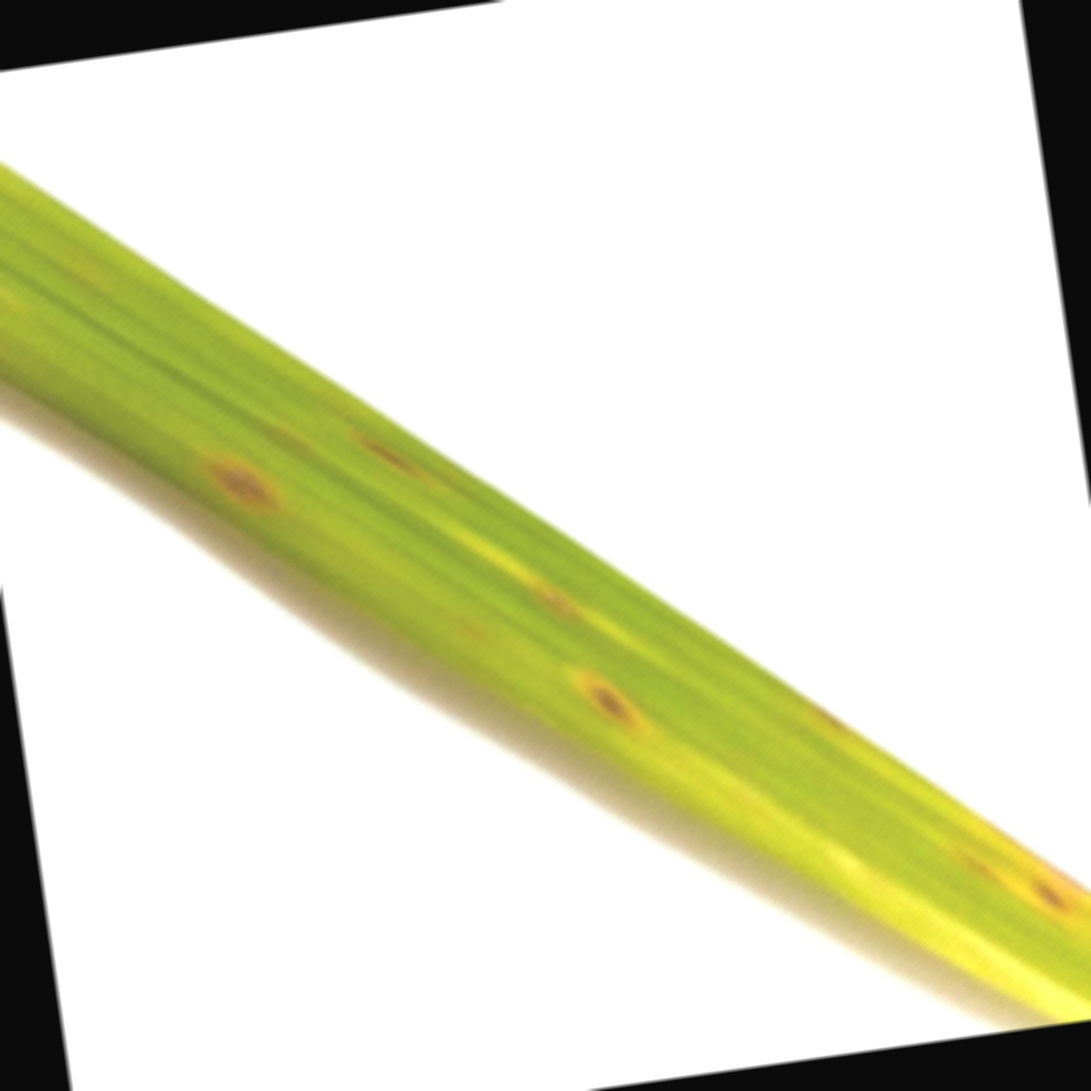Brown_Spot: (567, 643, 650, 746), (202, 438, 287, 530), (346, 407, 427, 491), (518, 564, 583, 630)
